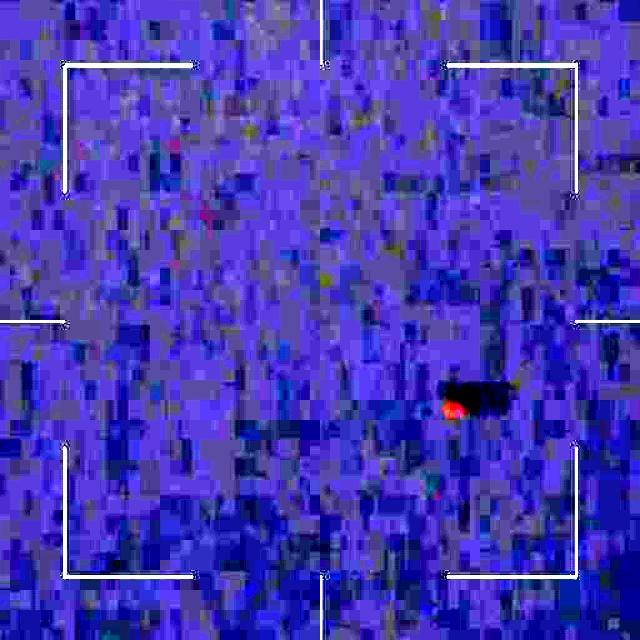bird: (430, 382, 469, 429)
